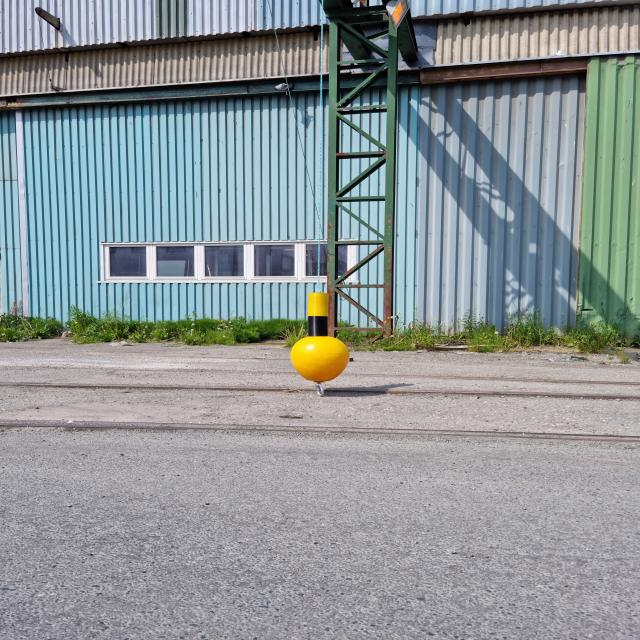west: (291, 293, 350, 380)
